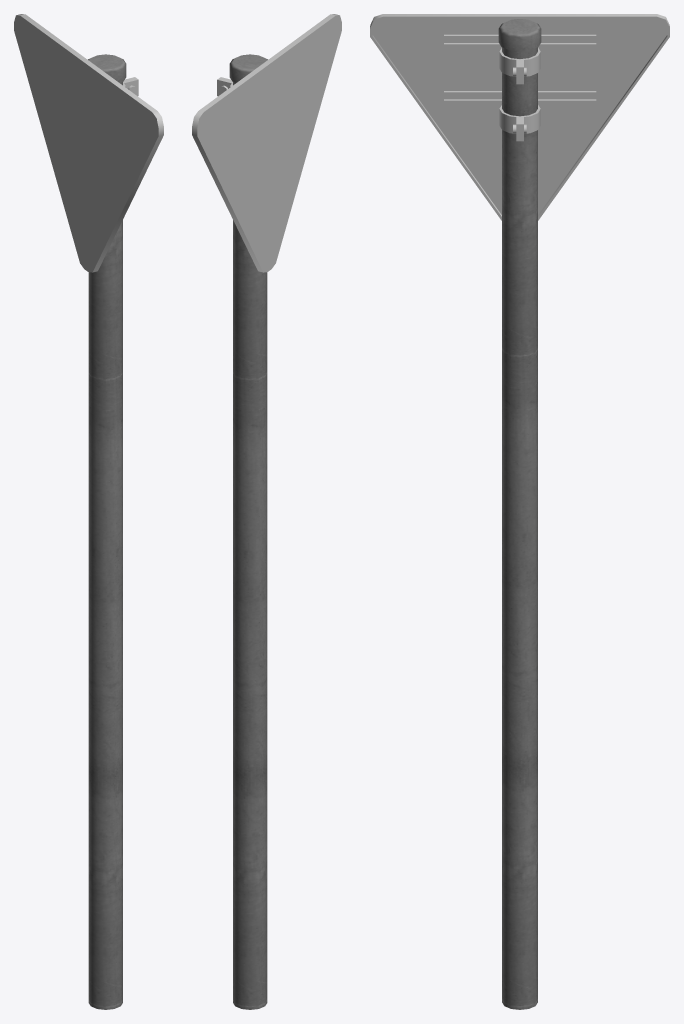
Rendered from SM_InvertedTrianglePole.fbx.
3 views of the same model, side by side, from view 1: azimuth 30°, elevation 25°; view 2: azimuth 150°, elevation 25°; view 3: azimuth 270°, elevation 25° (orthographic). The views are drawn at different scales.
Visible parts, largest first — view 1: SM_InvertedTrianglePole_LOD0; view 2: SM_InvertedTrianglePole_LOD0; view 3: SM_InvertedTrianglePole_LOD0.
Part boxes in pixels (x1,y1,x2,y2): SM_InvertedTrianglePole_LOD0: (14,14,163,1009); SM_InvertedTrianglePole_LOD0: (192,14,341,1009); SM_InvertedTrianglePole_LOD0: (370,14,669,1009).
Bounding box in the file's own units: 14.1 × 69.69 × 251.
